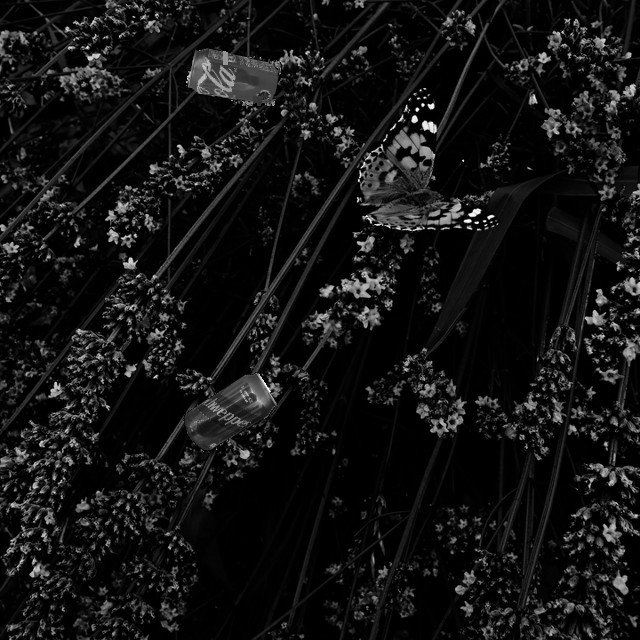coca cola: (185, 45, 281, 106)
schweppes: (177, 368, 280, 458)
